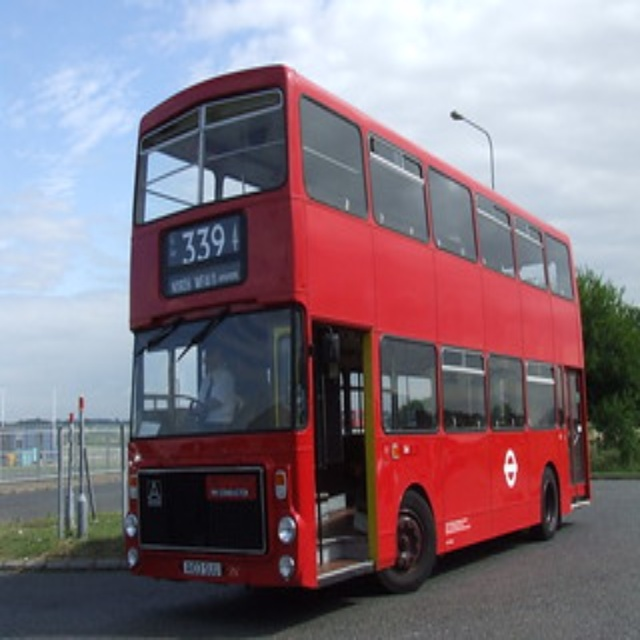Bus: (122, 64, 592, 597)
